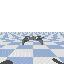drone: (22, 36, 44, 45)
